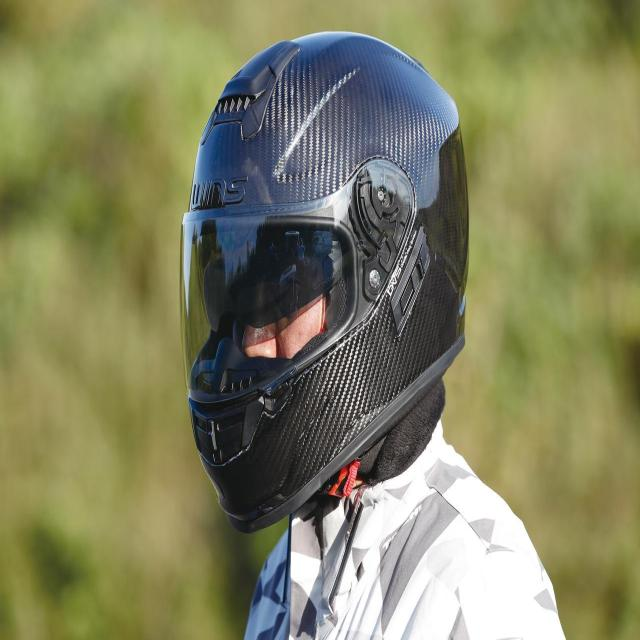helmet: (170, 22, 478, 544)
